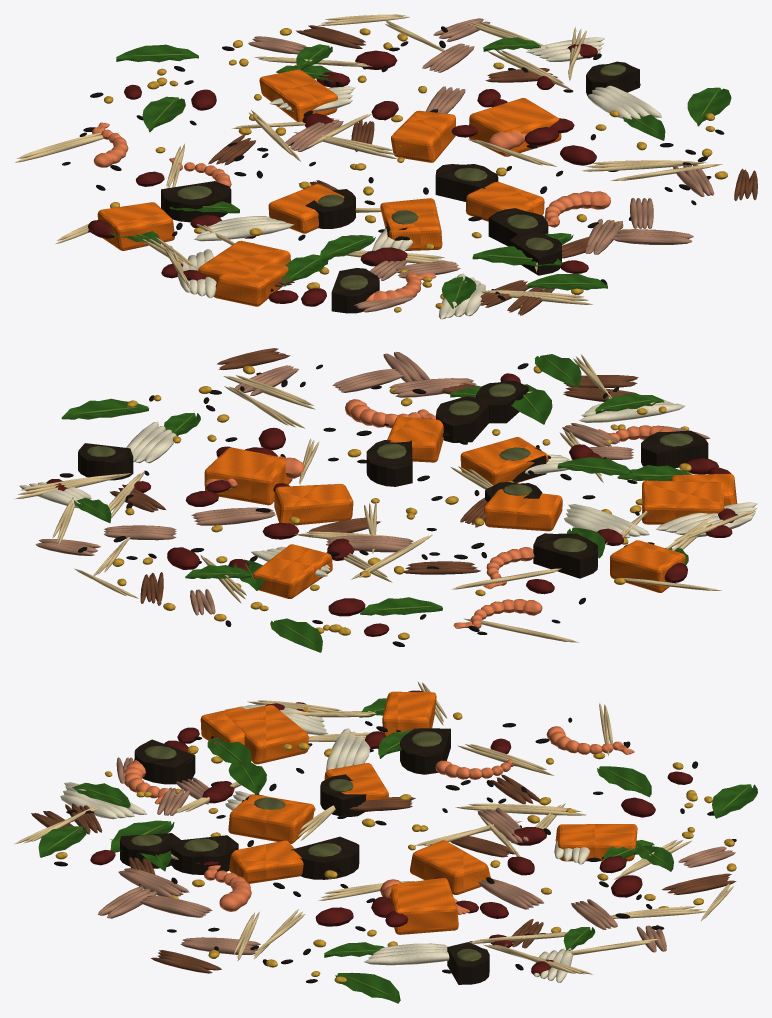
File: FOOD_BaseGarnish.glb
The picture shows the model from 3 angles, top to bottom: view 1: azimuth 30°, elevation 25°; view 2: azimuth 150°, elevation 25°; view 3: azimuth 270°, elevation 25°; orthographic projection.
Parts seen in each view (by area): view 1: I05, I04, I06, I12, I03, I10, I08, I09, I07, I02, I11; view 2: I05, I04, I06, I03, I12, I10, I08, I09, I07, I02, I11; view 3: I05, I04, I06, I12, I03, I10, I08, I09, I07, I02, I11.
Boxes of the visible parts, x1,y1,x2,y2 form: I05: [97, 69, 561, 306]; I04: [161, 61, 639, 313]; I06: [109, 37, 731, 308]; I12: [15, 14, 722, 304]; I03: [248, 18, 714, 312]; I10: [88, 43, 597, 306]; I08: [177, 37, 661, 319]; I09: [208, 25, 757, 315]; I07: [92, 122, 610, 303]; I02: [104, 28, 727, 312]; I11: [62, 26, 724, 300]; I05: [204, 416, 737, 598]; I04: [78, 380, 708, 578]; I06: [61, 354, 691, 652]; I03: [35, 351, 710, 615]; I12: [14, 354, 755, 642]; I10: [47, 373, 735, 636]; I08: [19, 400, 757, 576]; I09: [110, 348, 638, 605]; I07: [205, 399, 677, 628]; I02: [112, 365, 710, 639]; I11: [59, 363, 737, 646]; I05: [200, 691, 637, 934]; I04: [120, 728, 489, 984]; I06: [38, 698, 757, 1003]; I12: [14, 681, 733, 974]; I03: [98, 757, 735, 954]; I10: [90, 690, 692, 975]; I08: [60, 704, 590, 982]; I09: [31, 737, 736, 973]; I07: [123, 726, 634, 914]; I02: [55, 707, 736, 983]; I11: [54, 704, 736, 983].
Size of the model in its own units: 0.5822 by 0.0225 by 0.5653.
13 materials, 13 textured.
